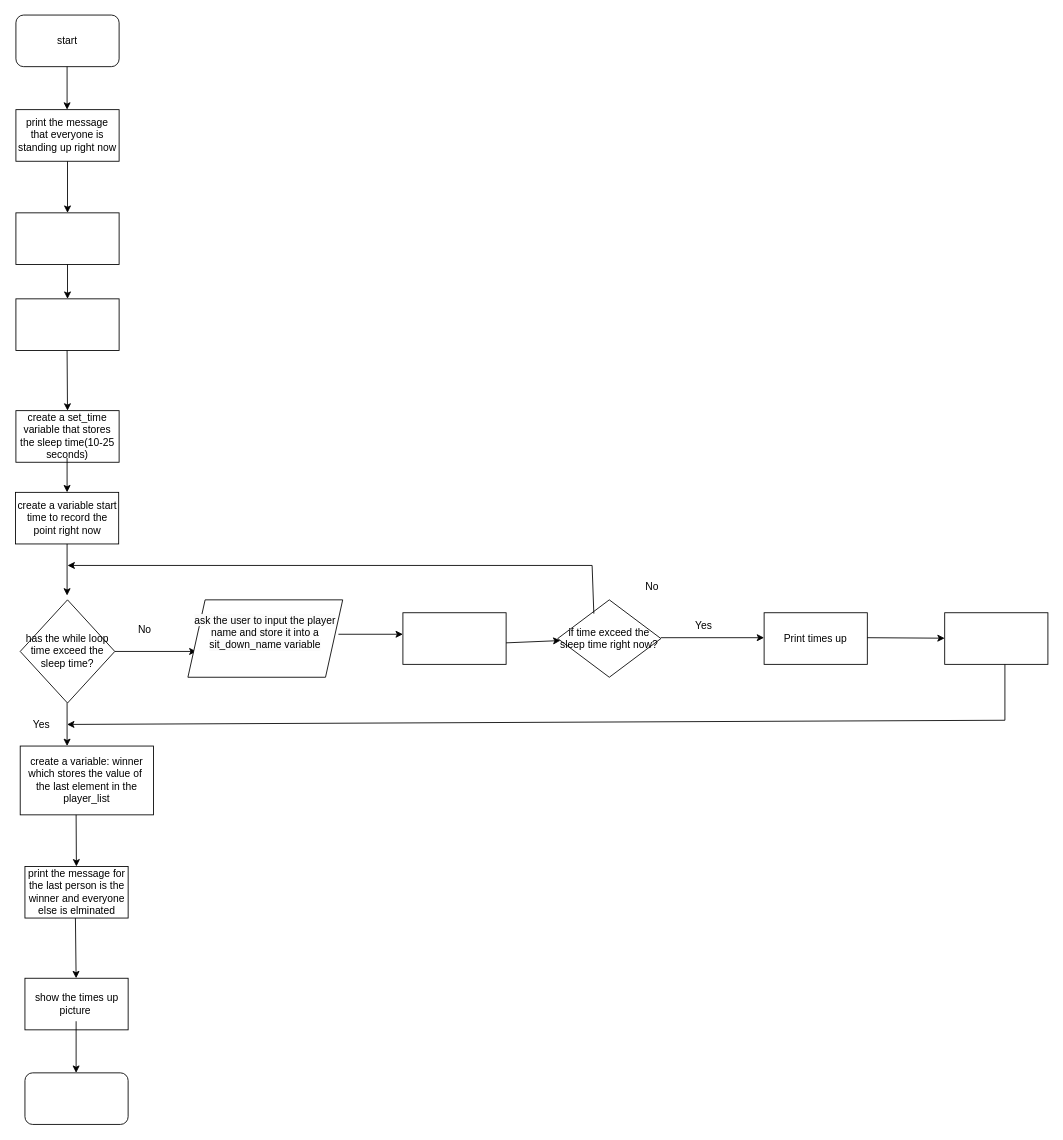
Image size: 1063x1140. Some labels were removed from this diagram. The centre of each missing label's shape, as x and y in pixels:
"[break]" goes at pixel 996 638.
"append this sit_donw_name into the empty list" goes at pixel 454 638.
"create a variable that stores a 'times up' picture" goes at pixel 67 324.
"create an empty player list" goes at pixel 67 238.
"End" goes at pixel 76 1098.
